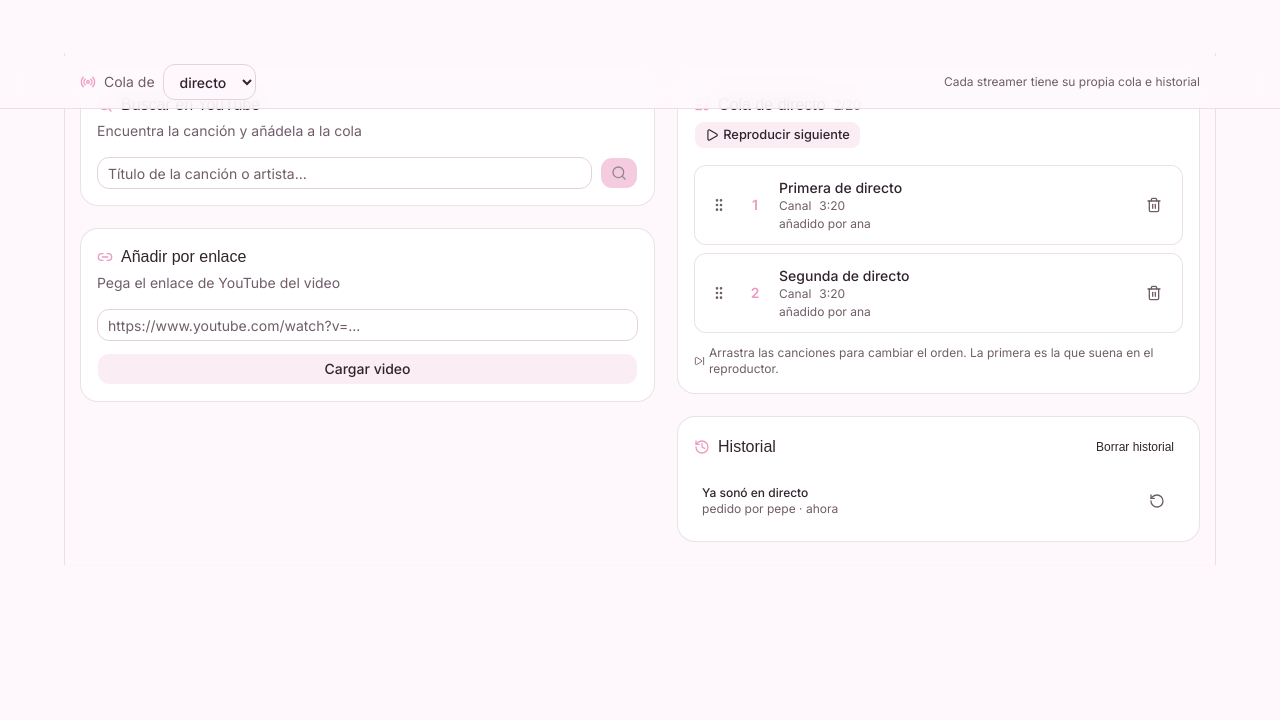
Test: panel de moderadores › lo cargado desde un enlace no se arrastra a la cola de otro streamer
The width and height of the screenshot is (1280, 720).
Expected: the text "Primera de directo" is shown, [779,179,902,196]
Type "https://youtu.be/yt2" into the field with placeholder "https://www.youtube.com/watch?v=..." at point(368, 325), box [97,309,638,341]
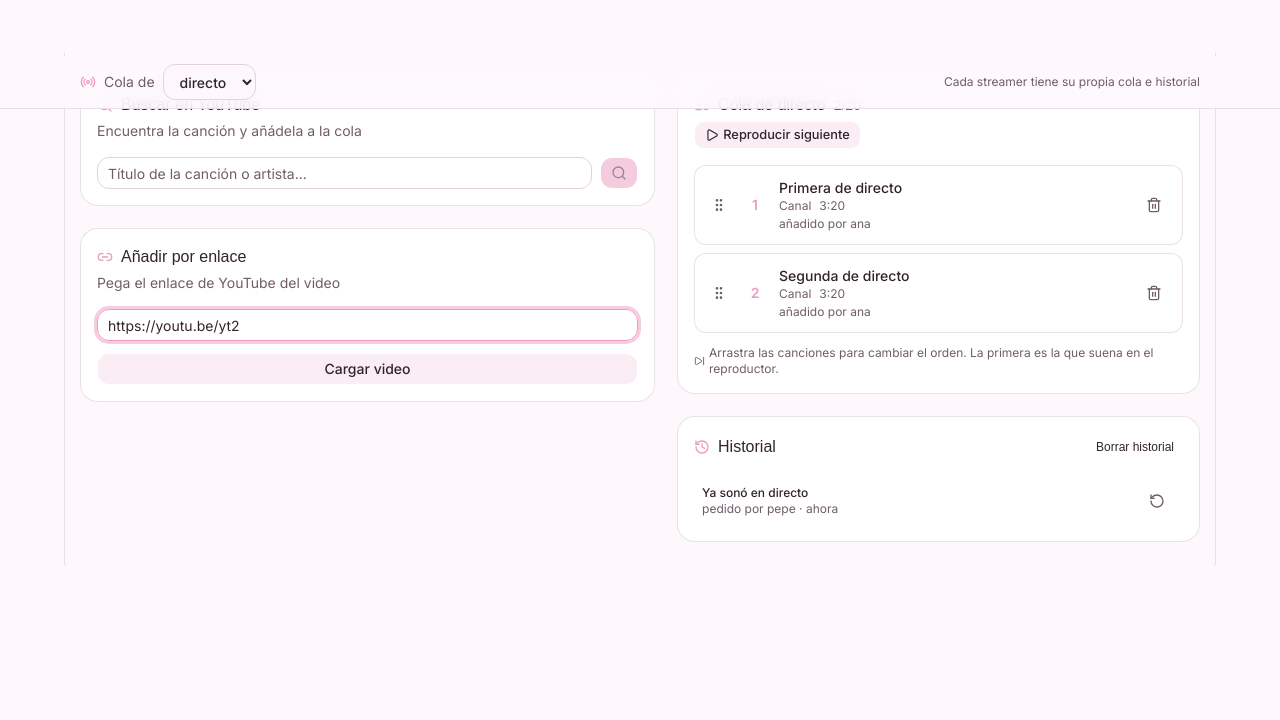
Click the button "Cargar video" at point(368, 369), box [97,353,638,385]
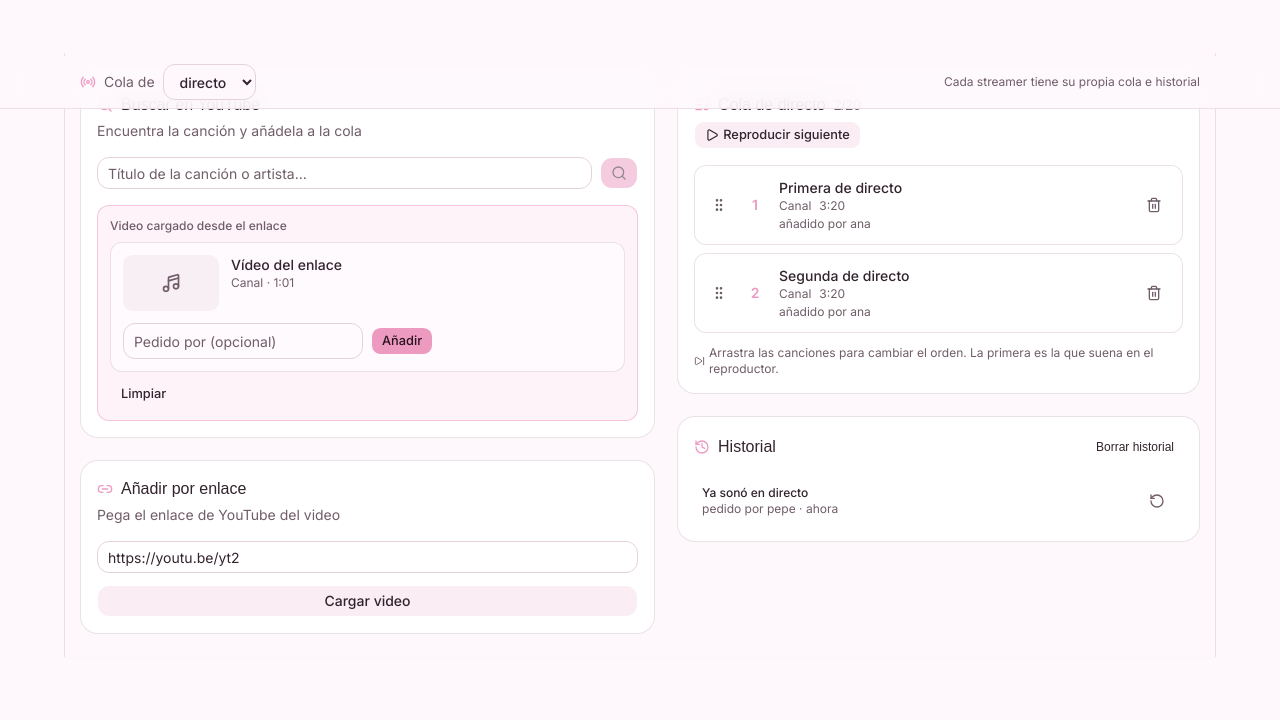
Expected: the text "Vídeo del enlace" is shown, [231,256,342,273]
Select "otra" in the dropdown at point(209, 82), box [162,64,256,100]
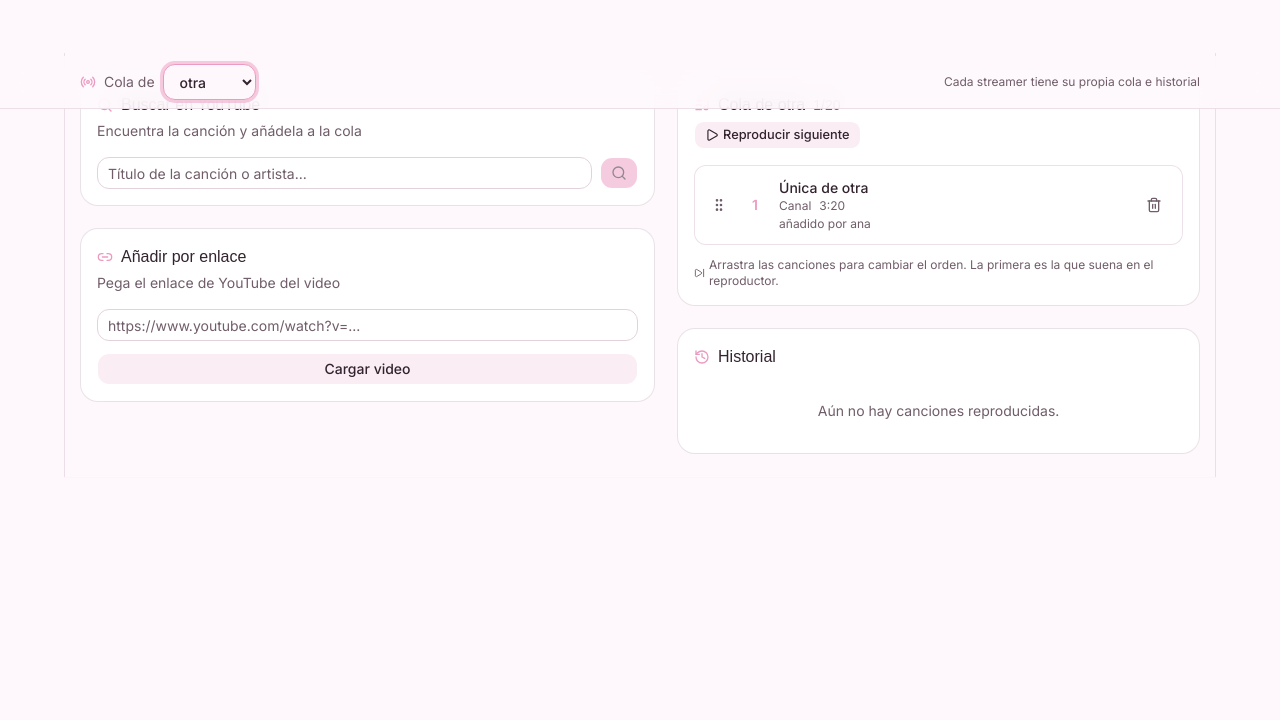
Expected: the text "Única de otra" is shown, [779,179,868,196]
Expected: the text "Vídeo del enlace" is gone
